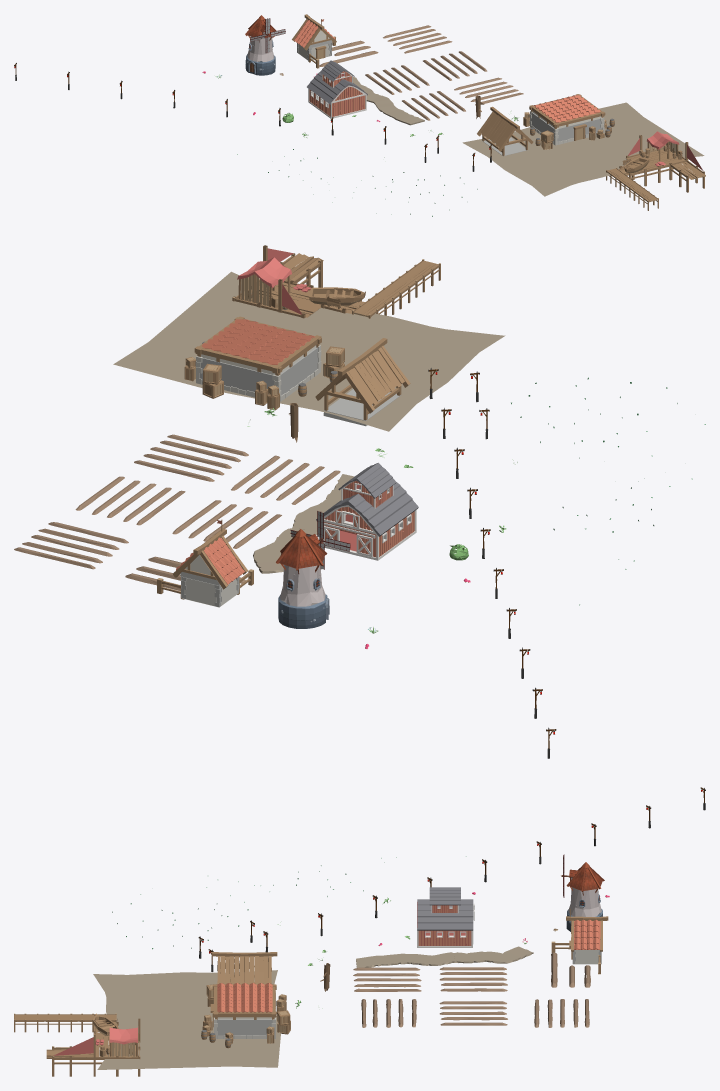
Rendered from chunk_2_0.glb.
3 views of the same model, one above another, from view 1: azimuth 30°, elevation 25°; view 2: azimuth 150°, elevation 25°; view 3: azimuth 270°, elevation 25° (orthographic). The views are drawn at different scales.
Visible parts, largest first — view 1: Batched_Chunk_2_0, wind_fan; view 2: Batched_Chunk_2_0; view 3: Batched_Chunk_2_0.
Part boxes in pixels (bbox=[...]): Batched_Chunk_2_0: bbox=[14, 14, 705, 216]; wind_fan: bbox=[250, 18, 285, 52]; Batched_Chunk_2_0: bbox=[14, 245, 705, 758]; Batched_Chunk_2_0: bbox=[14, 787, 705, 1076].
Bounding box in the file's own units: 102 × 15.75 × 114.
31 materials, 4 textured.
